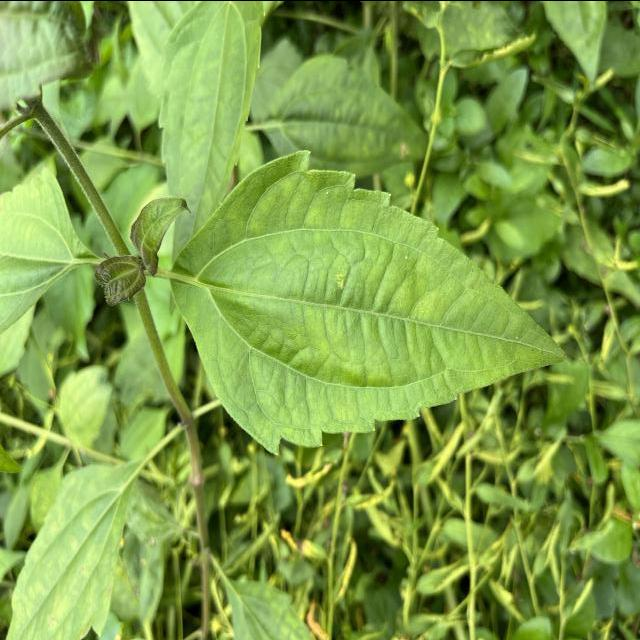Chromolaena odorata: (162, 146, 574, 459)
